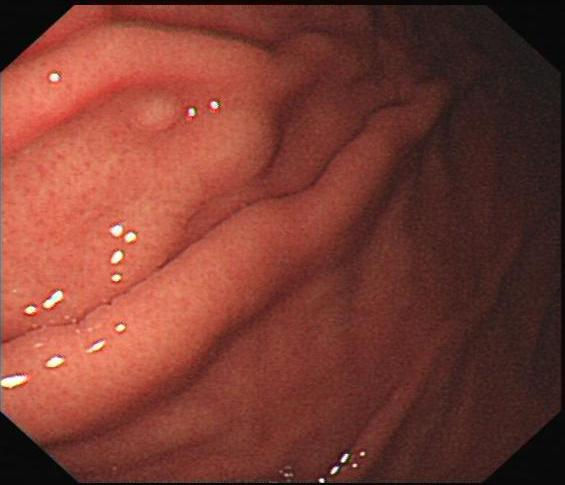Polyp: (120, 82, 180, 146)
